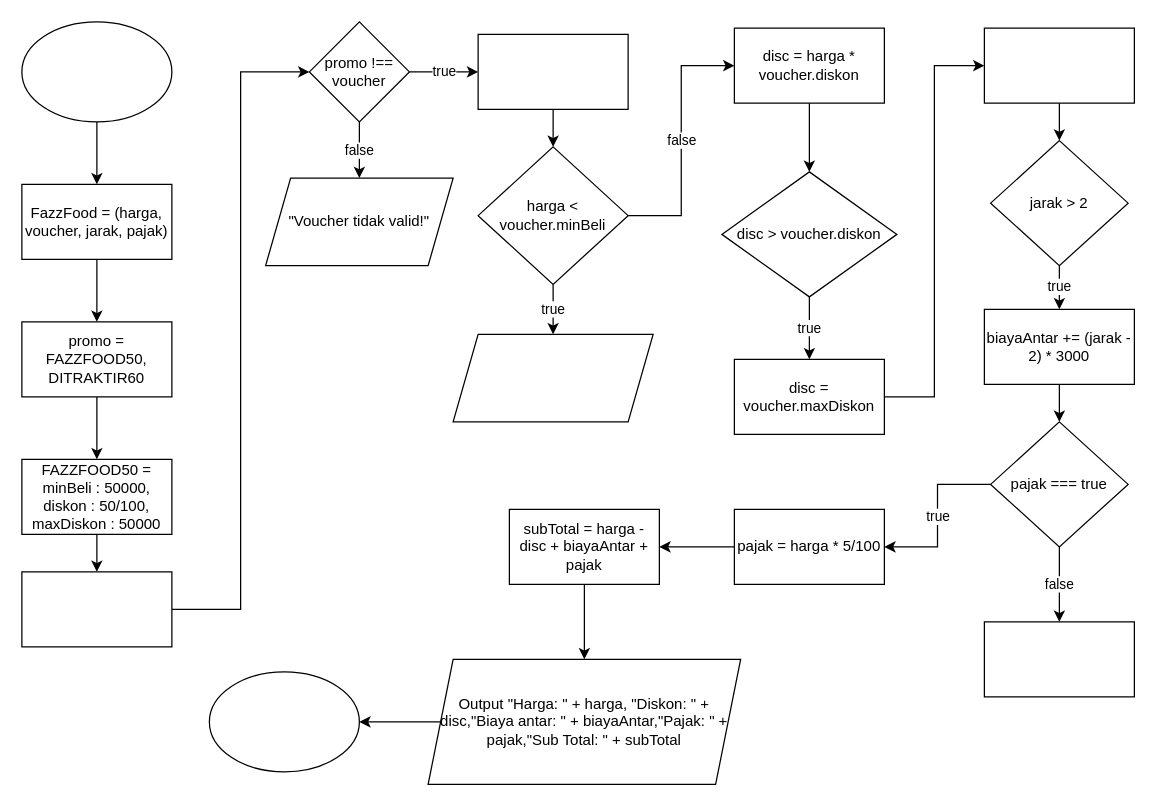
This 1156x806 diagram has some shape labels left out. Here are the shapes that lost their labels. From the top down, the centre of each, then its label:
point (96, 71): START
point (552, 71): voucher = promo[voucher]
point (1058, 65): biayaAntar = 2000
point (552, 377): "Minimal pembelian tidak terpenuhi!"
point (96, 609): DITRAKTIR60 = minBeli : 25000, diskon : 60/100, maxDiskon : 30000
point (1058, 659): pajak = 0
point (283, 721): END
